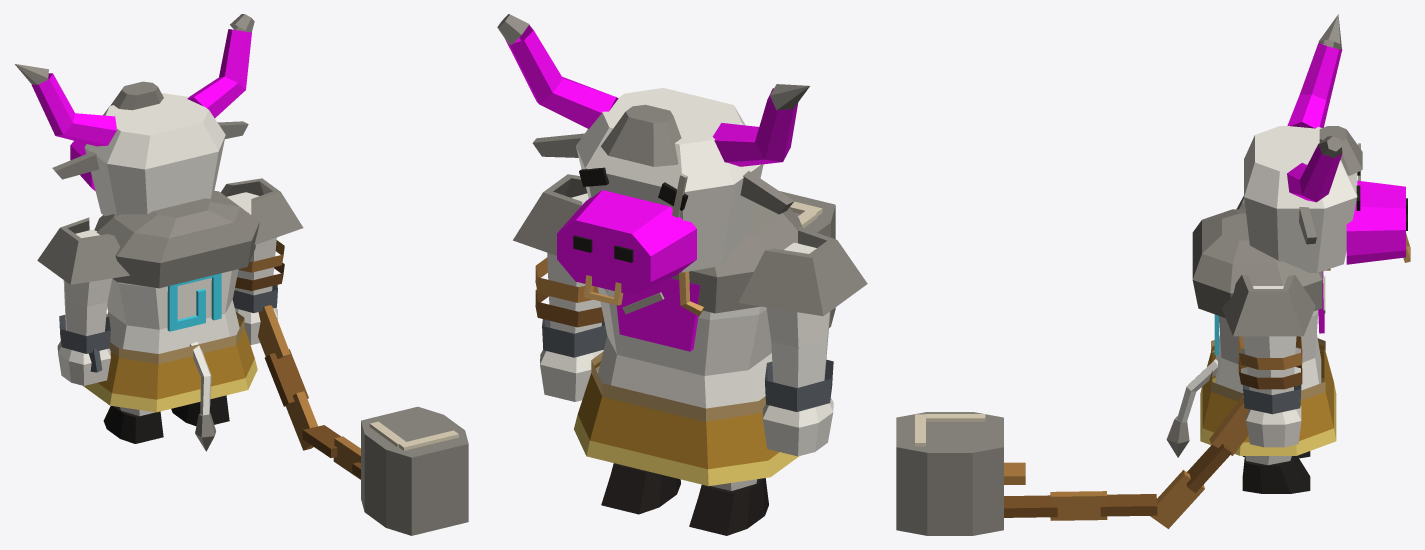
File: CH_Asterion_TheWhiteBull.fbx
3 views of the same model, side by side, from view 1: azimuth 30°, elevation 25°; view 2: azimuth 150°, elevation 25°; view 3: azimuth 270°, elevation 25° (orthographic). The views are drawn at different scales.
Parts seen in each view (by area): view 1: Body, Head, Chain, ArmL, ArmR, LegL, LegR; view 2: Head, Body, ArmL, ArmR, LegL, LegR, Chain; view 3: Head, Chain, Body, ArmR, LegR.
Part boxes in pixels (x1,y1,x2,y2): Body: (83,190,259,451); Head: (15,14,254,216); Chain: (258,305,468,535); ArmL: (37,217,129,385); ArmR: (221,178,303,344); LegL: (103,406,163,443); LegR: (171,395,229,425); Head: (497,14,809,305); Body: (574,203,802,486); ArmL: (738,226,867,456); ArmR: (513,174,607,401); LegL: (689,478,768,535); LegR: (601,463,680,514); Chain: (779,191,835,327); Head: (1244,14,1410,272); Chain: (896,396,1249,535); Body: (1166,209,1336,457); ArmR: (1221,274,1315,447); LegR: (1242,456,1310,493).
Size of the model in its own units: 1.29 by 2.1 by 1.81.
